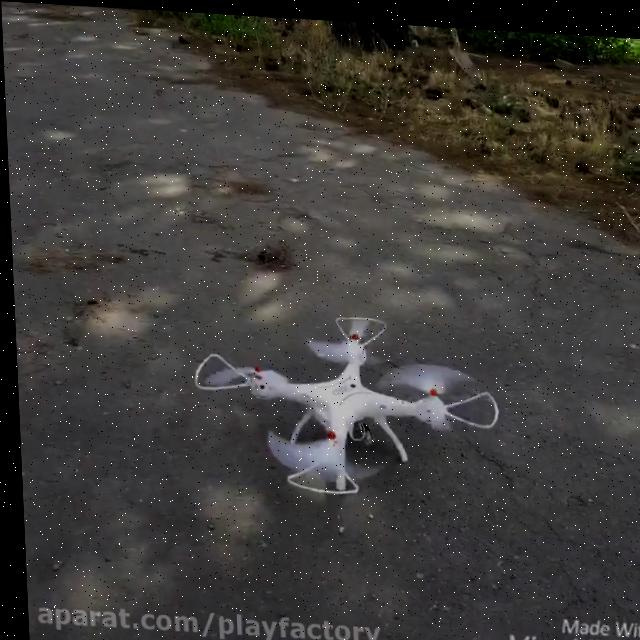drone: (185, 302, 498, 501)
